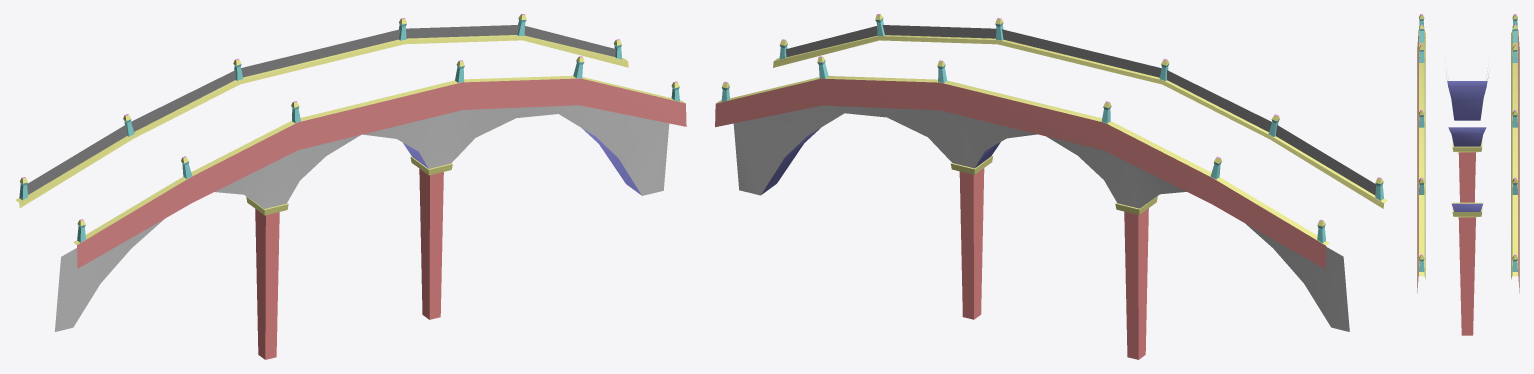
File: O_E_Bridge.gltf
3 views of the same model, side by side, from view 1: azimuth 30°, elevation 25°; view 2: azimuth 150°, elevation 25°; view 3: azimuth 270°, elevation 25° (orthographic). The views are drawn at different scales.
Parts seen in each view (by area): view 1: O_E_Bridge; view 2: O_E_Bridge; view 3: O_E_Bridge.
Part boxes in pixels (x1,y1,x2,y2): O_E_Bridge: (15,14,686,359); O_E_Bridge: (715,14,1387,359); O_E_Bridge: (1417,14,1519,335).
Bounding box in the file's own units: 20.24 × 8.75 × 3.63.
